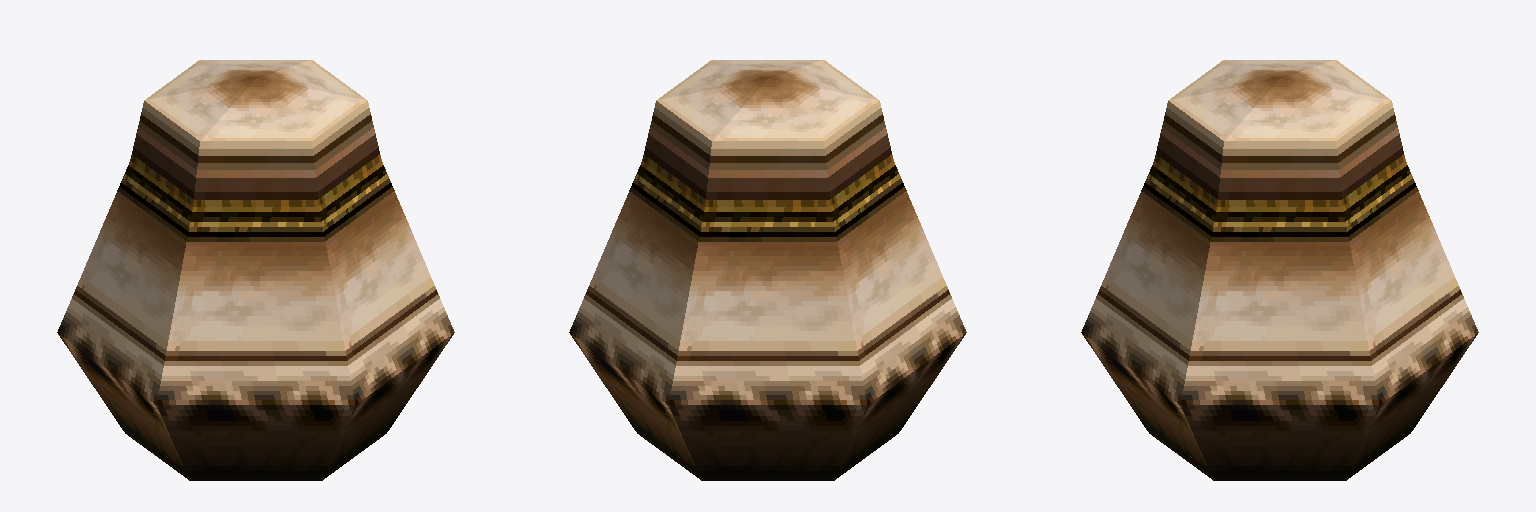
3 renders of one model, left to right at view 1: azimuth 30°, elevation 25°; view 2: azimuth 150°, elevation 25°; view 3: azimuth 270°, elevation 25°, orthographic.
Visible parts, largest first — view 1: jar02; view 2: jar02; view 3: jar02.
Part boxes in pixels (x1,y1,x2,y2): jar02: (57, 60, 454, 480); jar02: (569, 60, 966, 480); jar02: (1081, 60, 1478, 480).
Size of the model in its own units: 0.4398 by 0.5002 by 0.5079.
Materials: 1 (1 with a texture image).